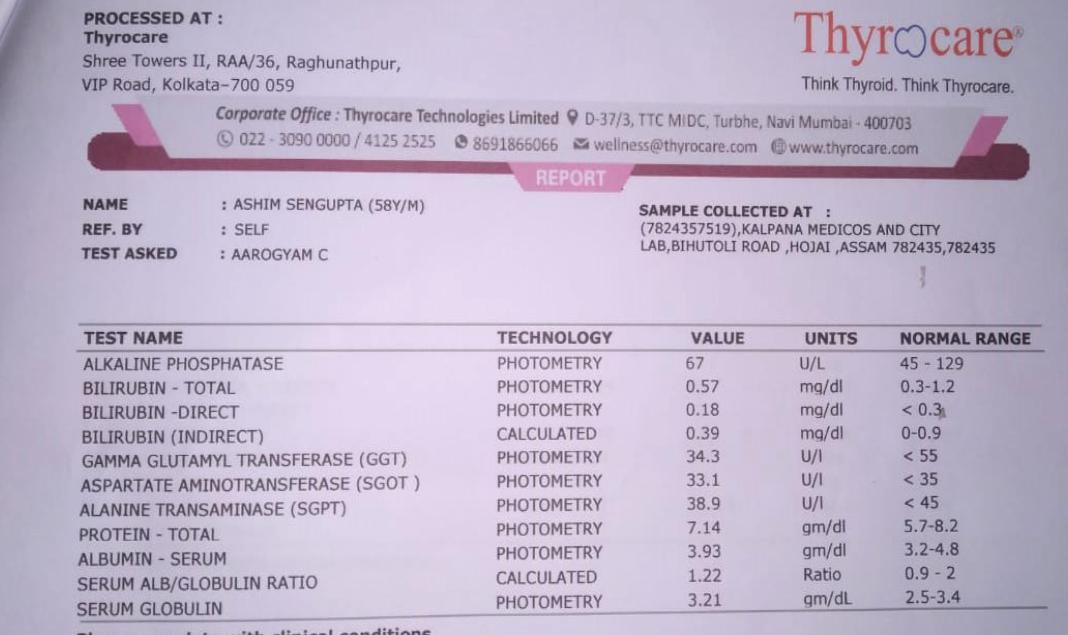Reference Range: (891, 350, 973, 612)
Test Name: (72, 349, 427, 623)
Units: (788, 349, 866, 613)
Value: (674, 349, 744, 611)
